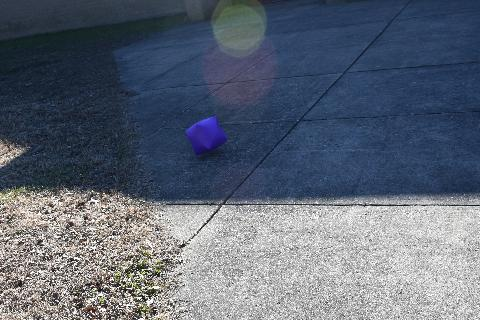cube: (186, 116, 228, 156)
